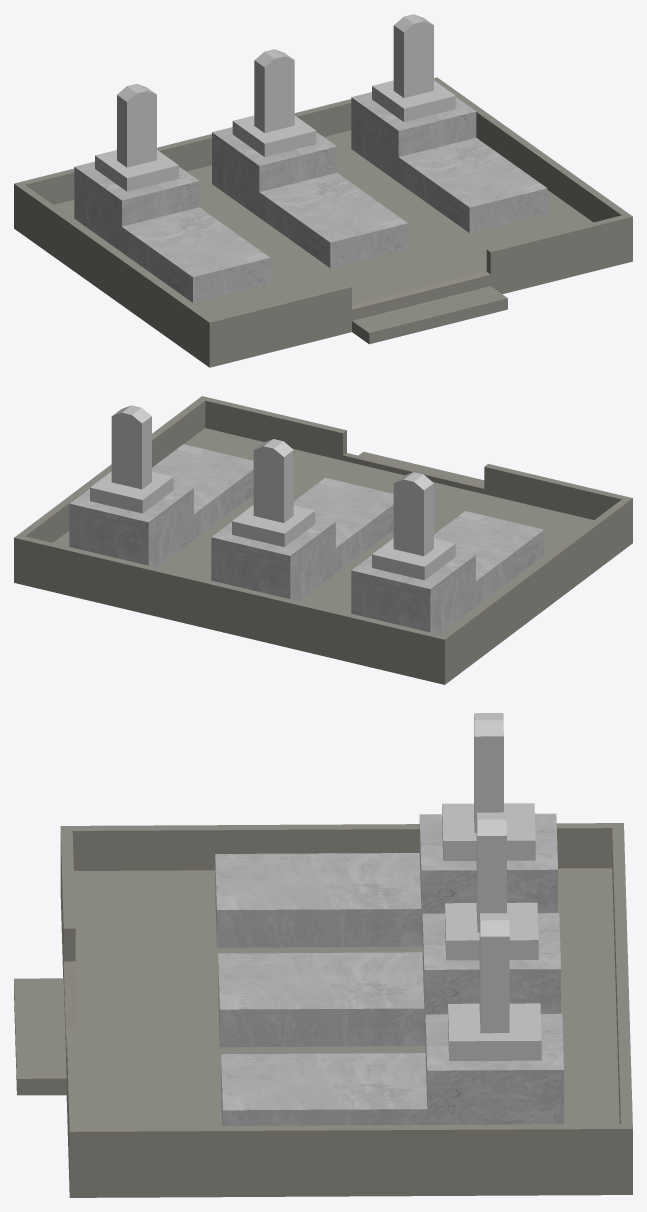
The model's file is groby1.fbx.
The picture shows the model from 3 angles, top to bottom: view 1: azimuth 30°, elevation 25°; view 2: azimuth 150°, elevation 25°; view 3: azimuth 270°, elevation 25°; orthographic projection. The views are drawn at different scales.
Visible parts, largest first — view 1: Cube.044, Cube.056, Cube.058, Cube.046, Cube.045, Cube.043, Cube.057; view 2: Cube.044, Cube.058, Cube.056, Cube.046, Cube.043, Cube.045, Cube.057; view 3: Cube.044, Cube.046, Cube.058, Cube.056, Cube.043, Cube.045, Cube.057.
Part boxes in pixels (x1=…): Cube.044: x1=14, y1=77, x2=632, y2=367; Cube.056: x1=351, y1=92, x2=547, y2=233; Cube.058: x1=74, y1=161, x2=270, y2=302; Cube.046: x1=212, y1=127, x2=407, y2=268; Cube.045: x1=232, y1=49, x2=316, y2=156; Cube.043: x1=372, y1=14, x2=455, y2=121; Cube.057: x1=95, y1=83, x2=178, y2=191; Cube.044: x1=14, y1=396, x2=632, y2=684; Cube.058: x1=351, y1=511, x2=544, y2=634; Cube.056: x1=69, y1=444, x2=253, y2=567; Cube.046: x1=211, y1=477, x2=393, y2=601; Cube.043: x1=90, y1=405, x2=173, y2=513; Cube.045: x1=232, y1=439, x2=315, y2=547; Cube.057: x1=372, y1=472, x2=455, y2=580; Cube.044: x1=14, y1=823, x2=632, y2=1197; Cube.046: x1=218, y1=913, x2=560, y2=1047; Cube.058: x1=215, y1=813, x2=557, y2=947; Cube.056: x1=221, y1=1013, x2=563, y2=1125; Cube.043: x1=448, y1=913, x2=541, y2=1060; Cube.045: x1=445, y1=812, x2=538, y2=960; Cube.057: x1=442, y1=713, x2=535, y2=860.
Size of the model in its own units: 3500 by 1203 by 2965.
